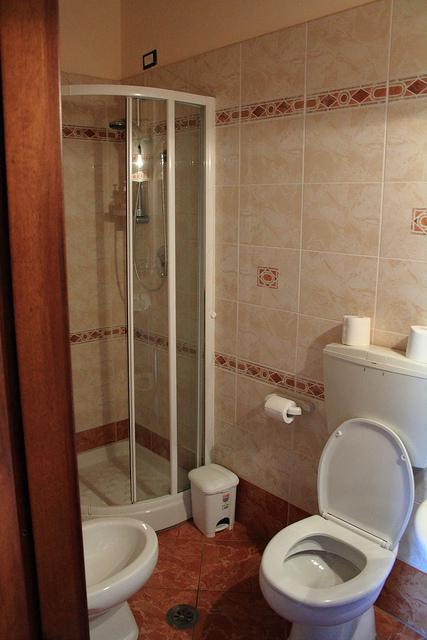Bote de Basura: (185, 462, 247, 539)
Ducha: (0, 87, 215, 524)
Sanitario: (254, 413, 424, 633), (4, 501, 156, 635)
